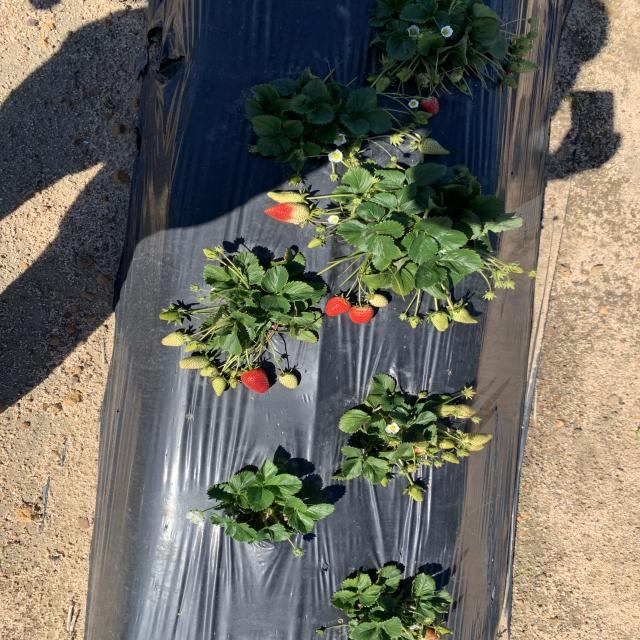unripe: (263, 203, 310, 225), (240, 366, 272, 394), (325, 295, 351, 317), (349, 304, 374, 325), (422, 97, 442, 115)
